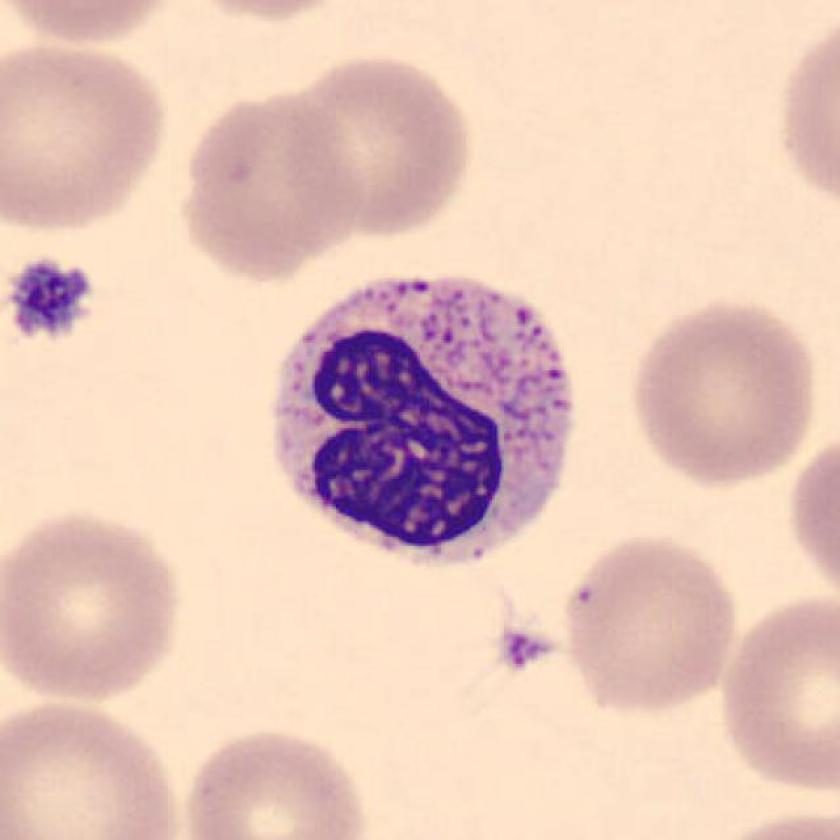neutrophil: (276, 278, 574, 560)
